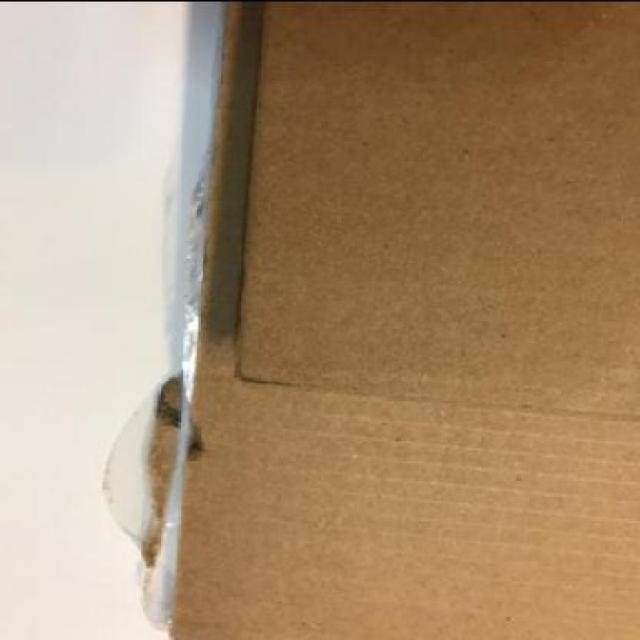CARDBOARD: (95, 2, 638, 640)
